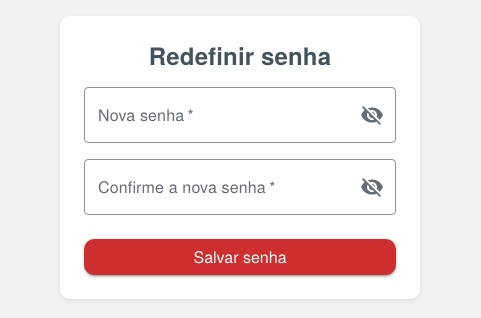
Test: ResetPassword › should show the expired link when it stops working before the password is saved
Type "senha-nova-1" into the password field labelled "Nova senha *" at point(214, 115), box [84,87,344,143]
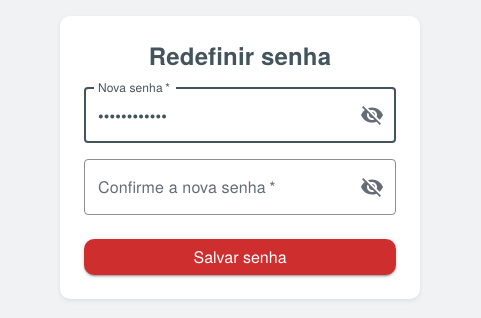
Type "senha-nova-1" into the password field labelled "Confirme a nova senha *" at point(214, 187), box [84,159,344,215]
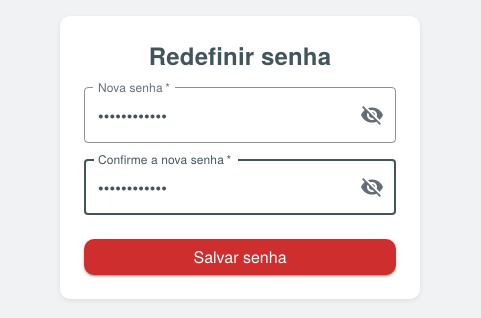
Click the button "Salvar senha" at point(240, 257), box [84,239,396,275]
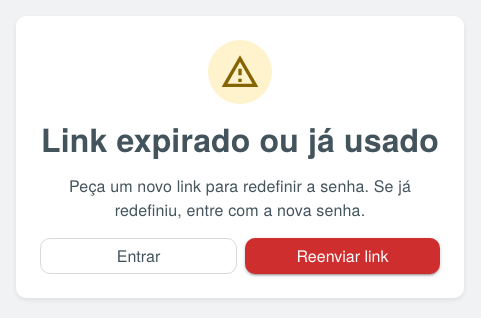
Check: the heading "Link expirado ou já usado" is shown, box [41,120,439,158]
